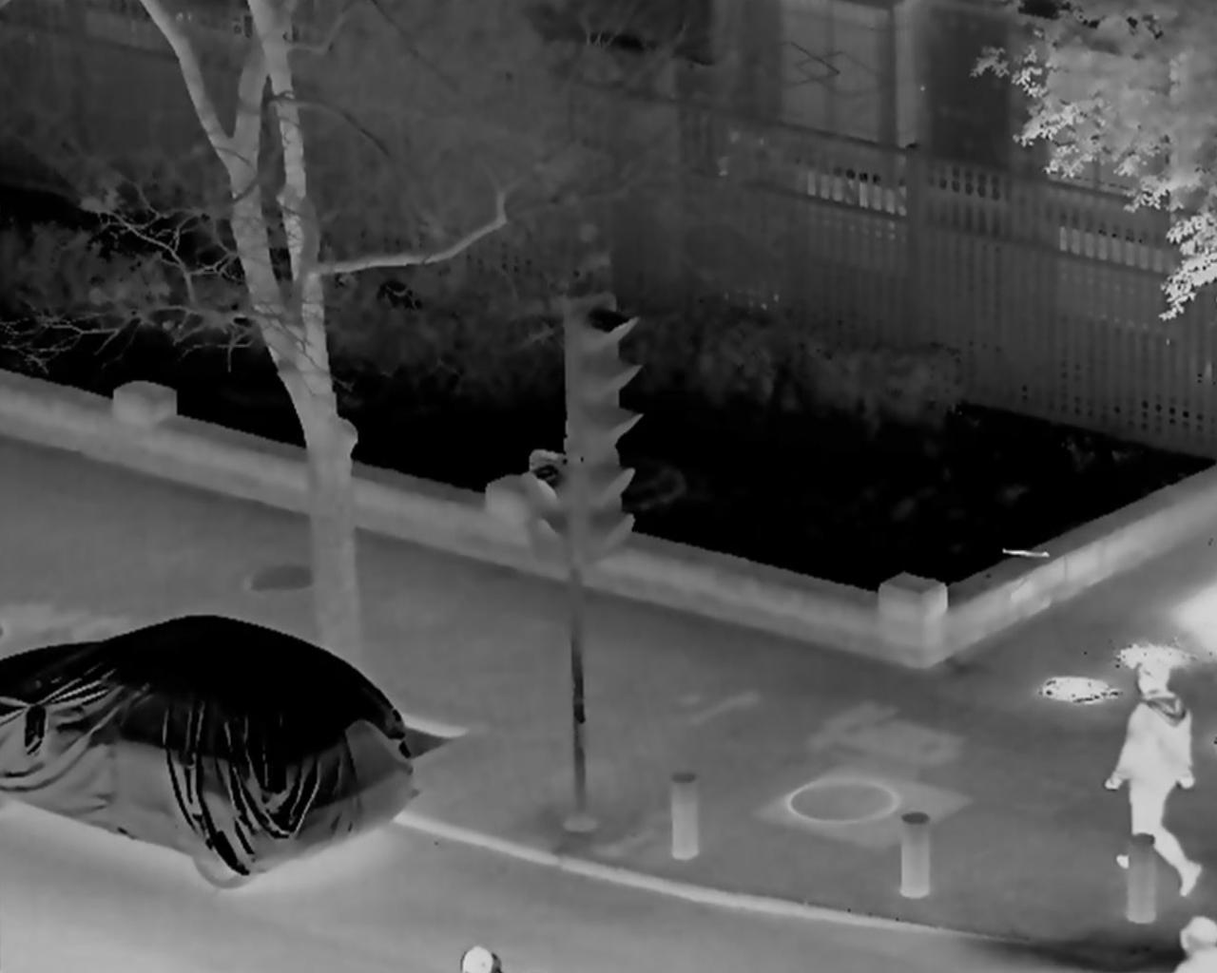person: (1109, 664, 1207, 899)
